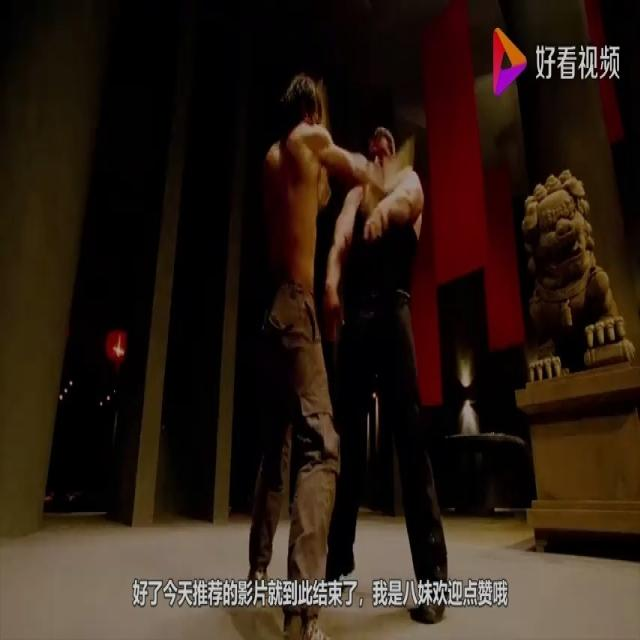fight: (235, 48, 450, 639)
